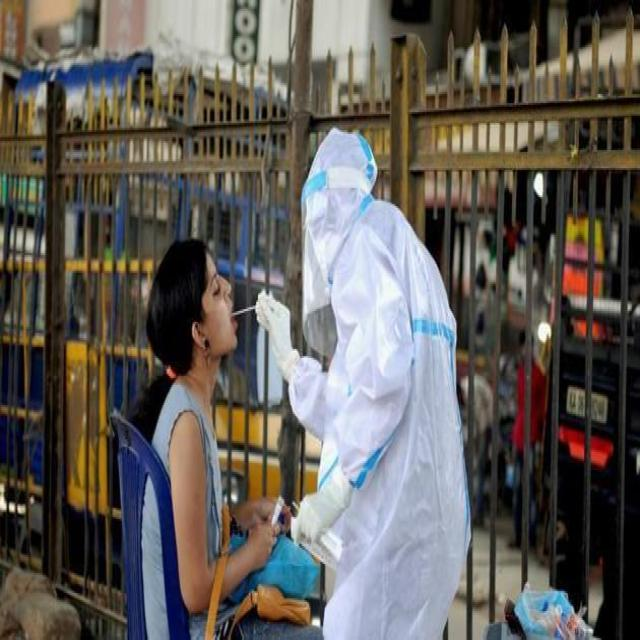Coverall: (285, 105, 457, 634)
Gloves: (239, 275, 316, 392), (288, 463, 360, 568)
